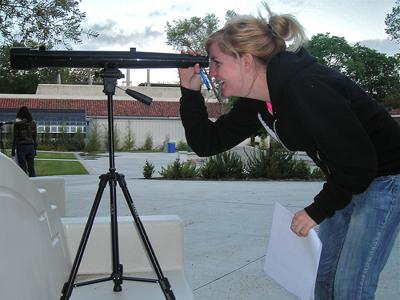person: (178, 14, 400, 300)
